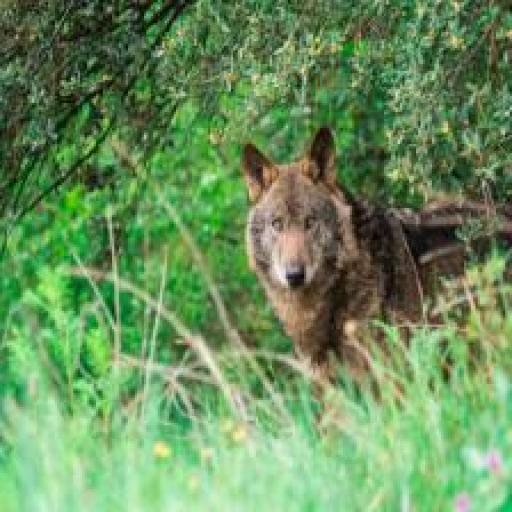wolf: (221, 116, 512, 386)
